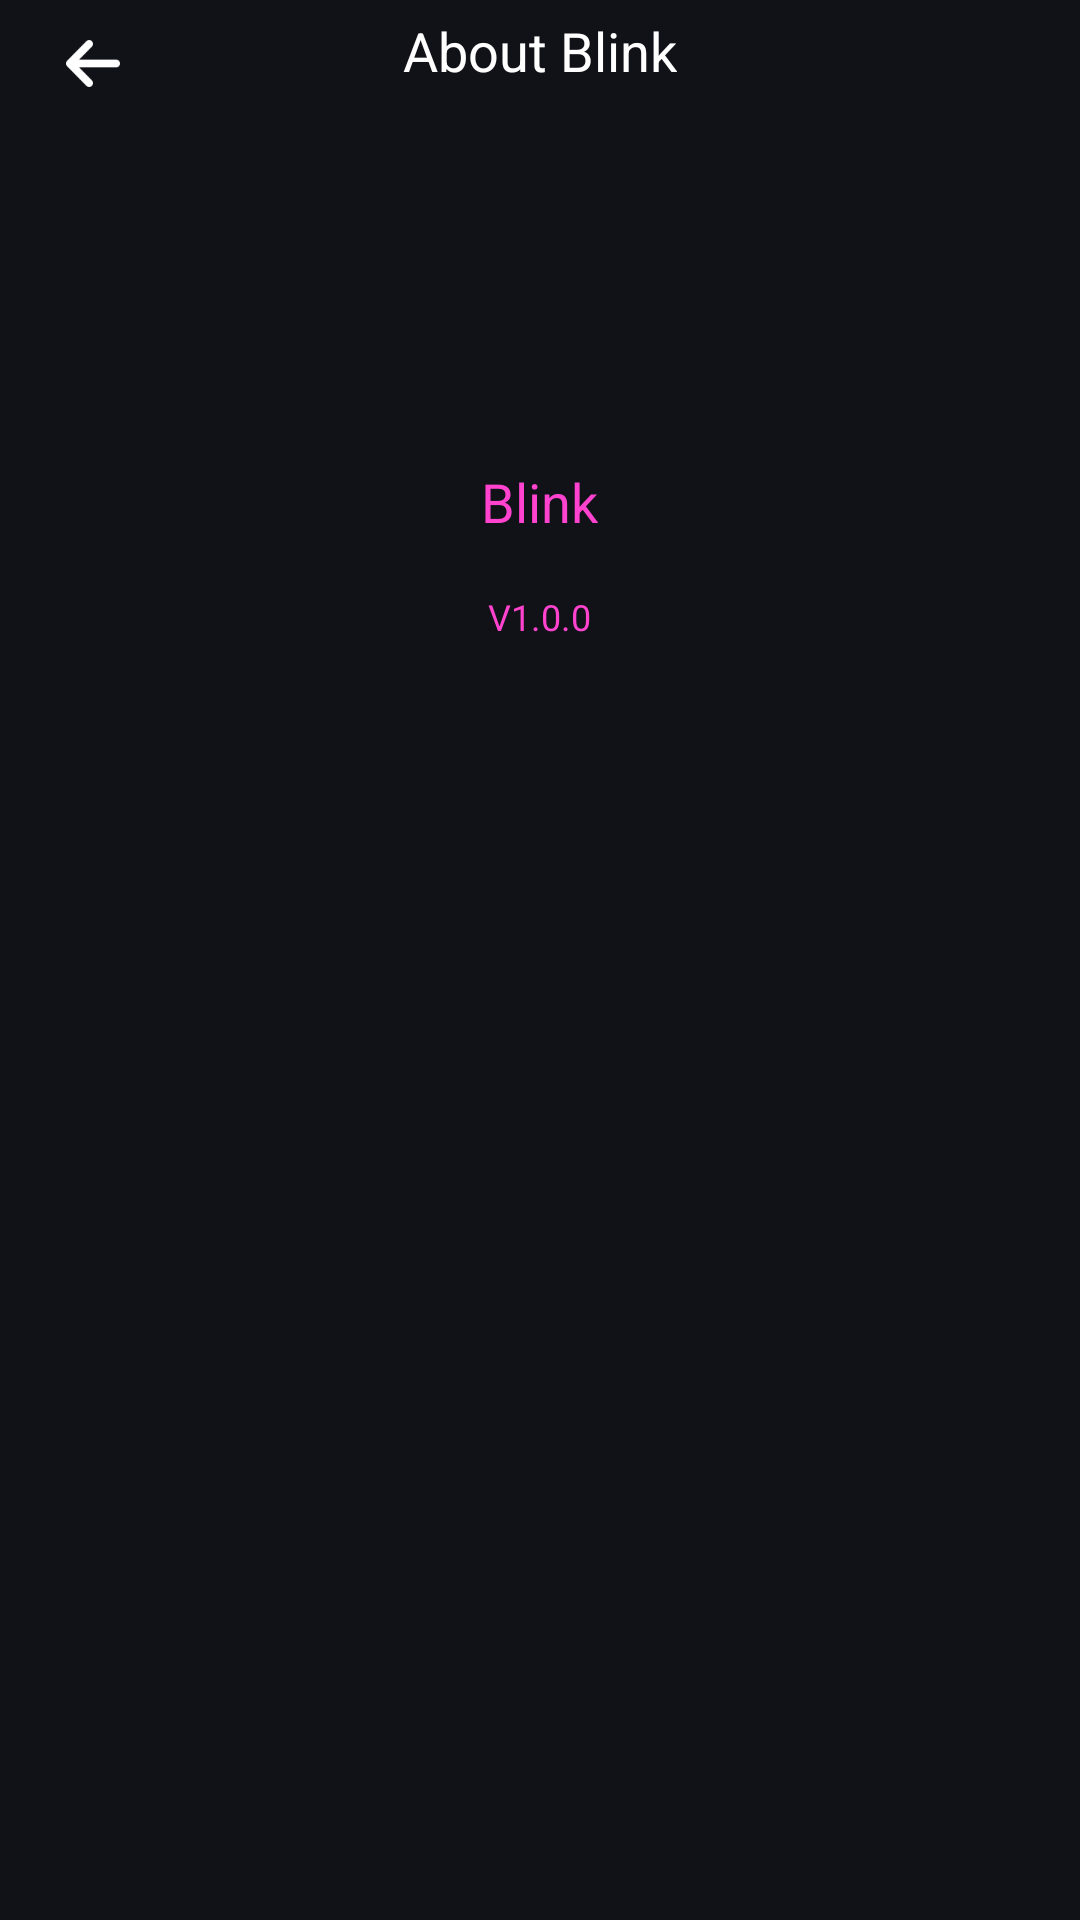

Icons on this 1080 × 1920 Android screen, each with its box as (x1, y1, x2, y2):
back up: (66, 40, 120, 87)
